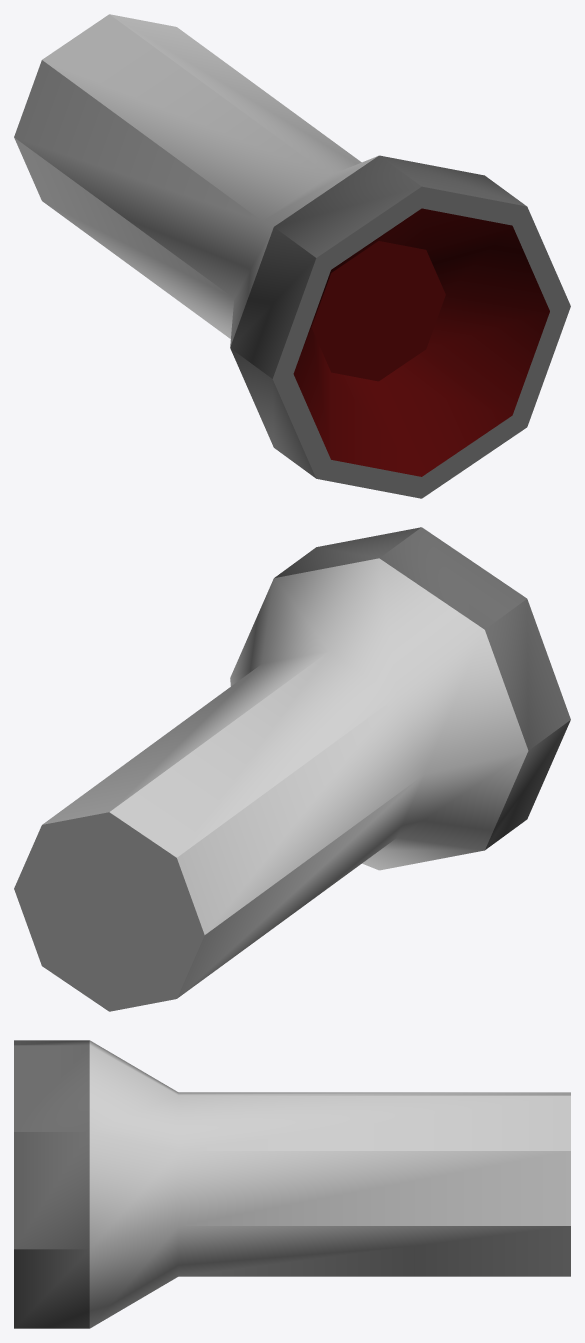
File: Flashlight.fbx
3 renders of one model, top to bottom at view 1: azimuth 30°, elevation 25°; view 2: azimuth 150°, elevation 25°; view 3: azimuth 270°, elevation 25°, orthographic. The views are drawn at different scales.
Visible parts, largest first — view 1: Cylinder; view 2: Cylinder; view 3: Cylinder.
Boxes of the visible parts, bbox=[...] form: Cylinder: bbox=[14, 14, 570, 498]; Cylinder: bbox=[14, 527, 570, 1011]; Cylinder: bbox=[14, 1040, 570, 1328].
Bounding box in the file's own units: 7.82 × 7.82 × 14.19.
